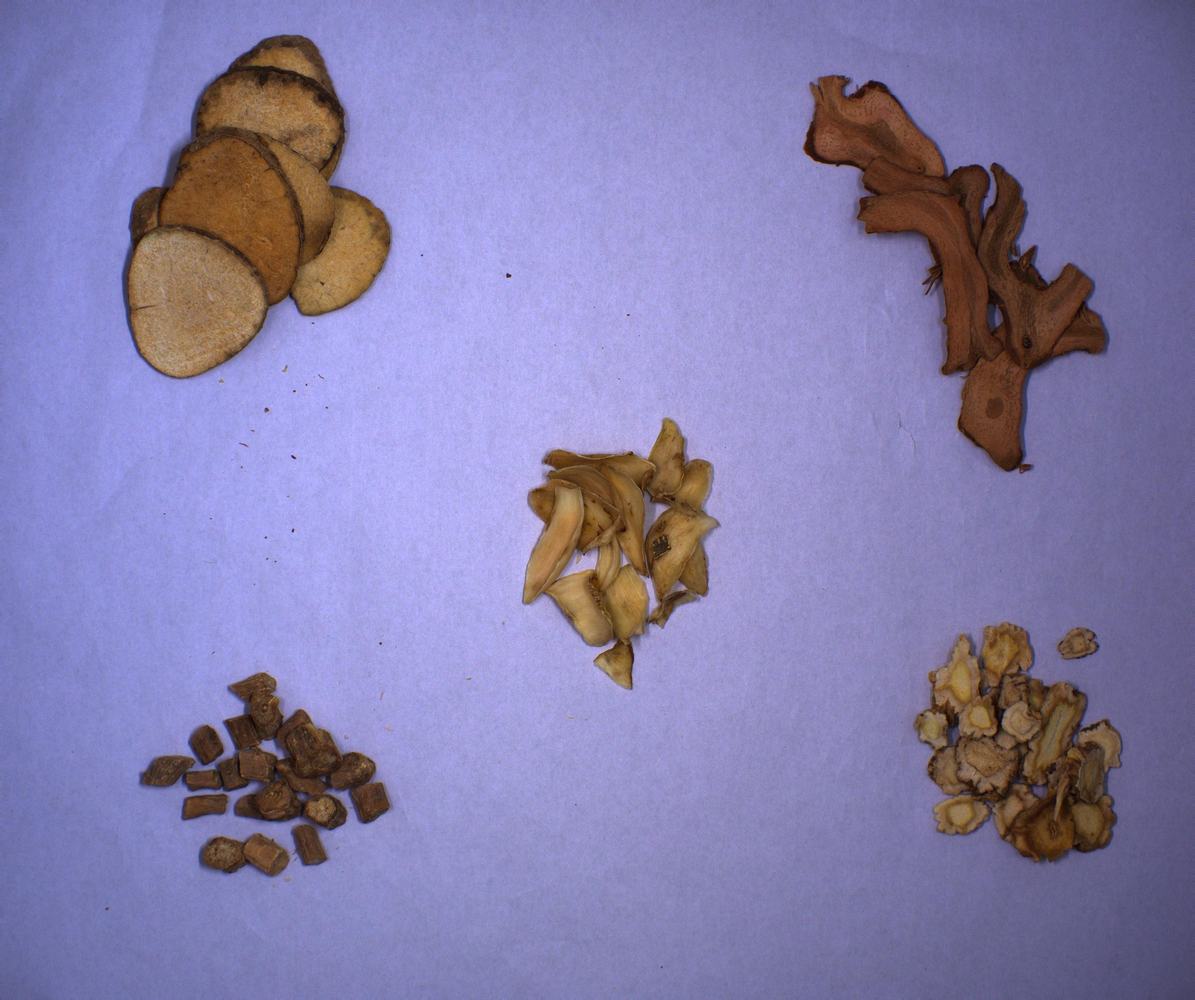baihe: (523, 418, 721, 689)
gaoliangjiang: (804, 73, 1109, 473)
jiegeng: (914, 621, 1123, 863)
niuxi: (140, 672, 388, 877)
zexie: (124, 33, 390, 379)
